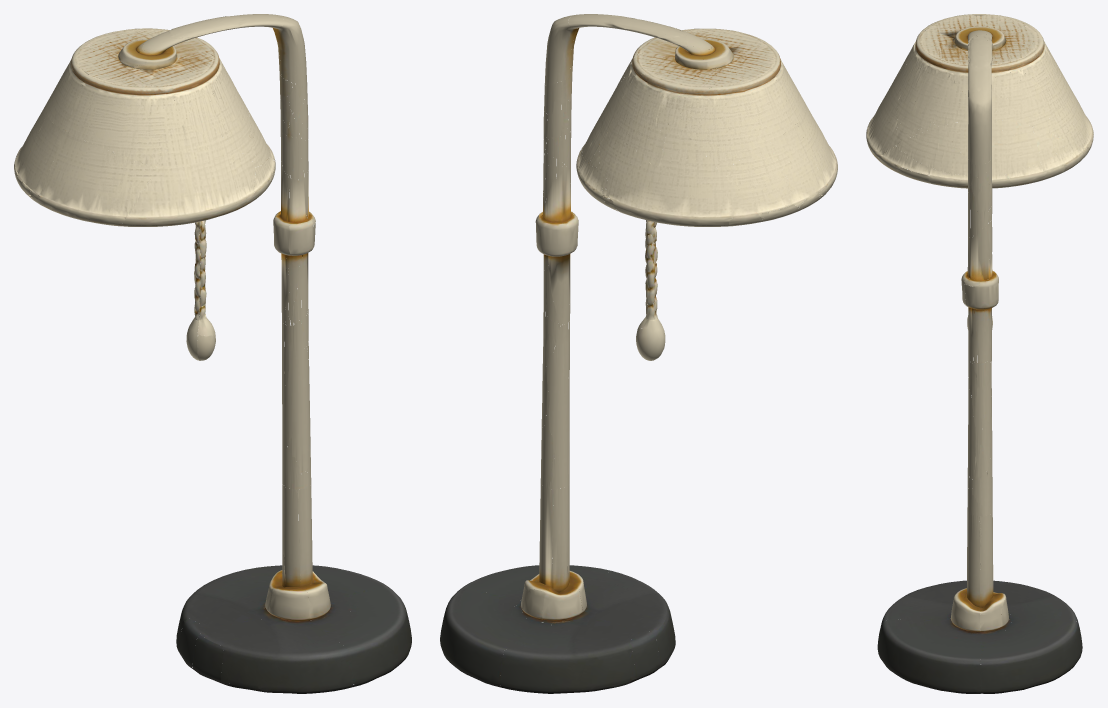
Rendered from lamp.parts.glb.
3 views of the same model, side by side, from view 1: azimuth 30°, elevation 25°; view 2: azimuth 150°, elevation 25°; view 3: azimuth 270°, elevation 25° (orthographic). The views are drawn at different scales.
Visible parts, largest first — view 1: body, cord; view 2: body, cord; view 3: body.
Boxes of the visible parts, box(x1,y1,x2,y2) form: body: box(14, 14, 411, 693); cord: box(186, 185, 268, 360); body: box(440, 14, 837, 693); cord: box(583, 185, 665, 360); body: box(866, 14, 1093, 693).
Size of the model in its own units: 0.5852 by 0.9795 by 0.3582.
Materials: 1 (1 with a texture image).
